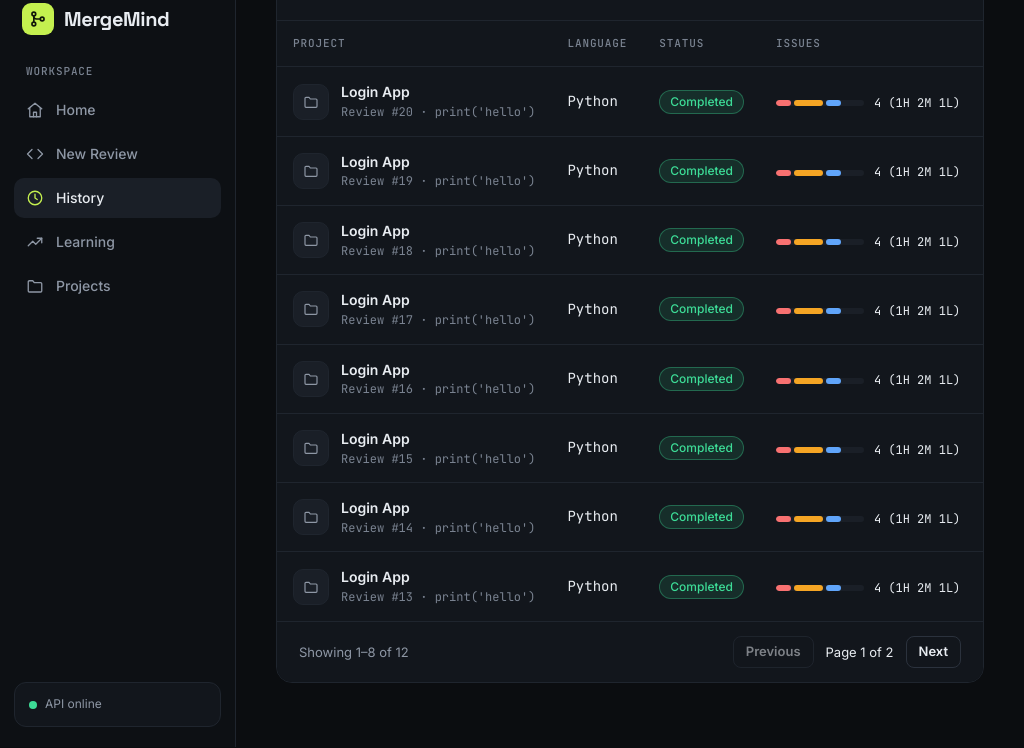
Test case: Review History (Stage 6) › filters by status, paginates, and scopes stats to the filters
This screenshot has width=1024, height=748.
(page scrolled)
Expected: the text "Page 1 of 2" is shown, [826,642,894,662]
Click the button "Next" at (933, 652), box [906,636,961,668]
(page scrolled)
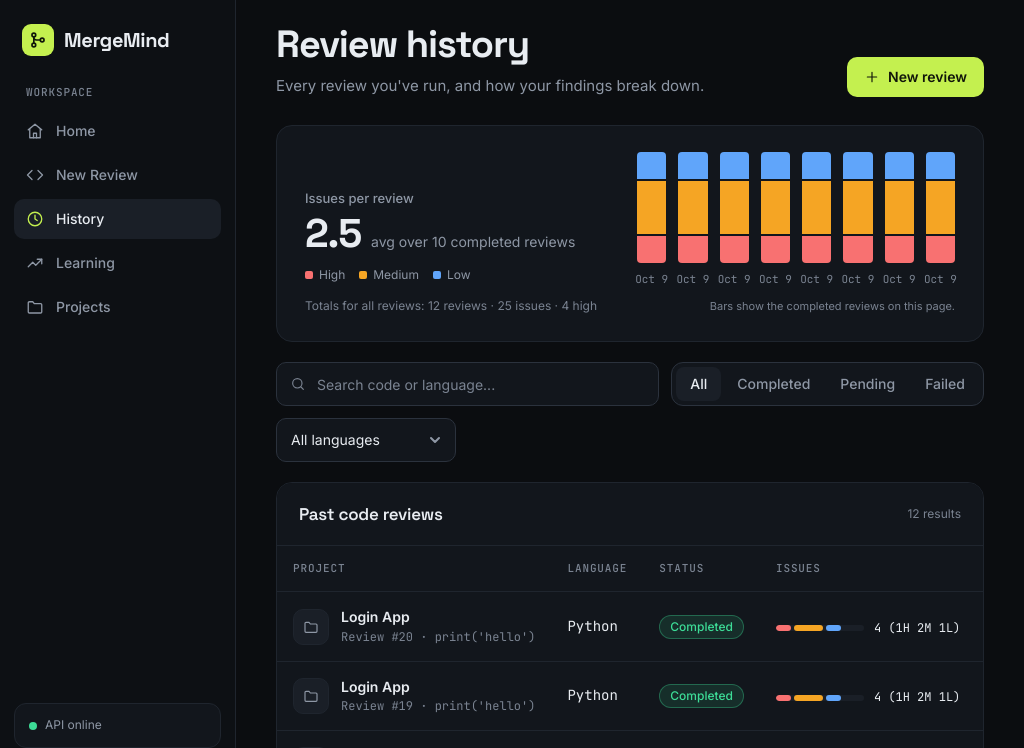
Click the button "Failed" at (945, 384), box [911,367,979,401]
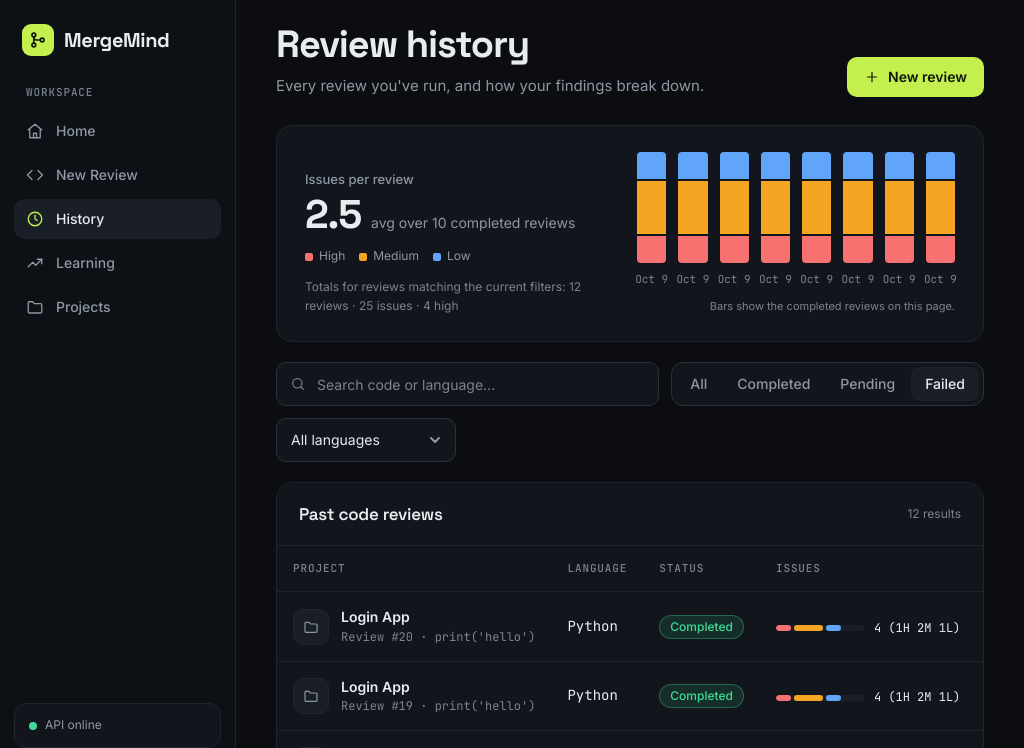
Expected: the text "Totals for reviews matching the current filters" is shown, [305,279,562,294]
